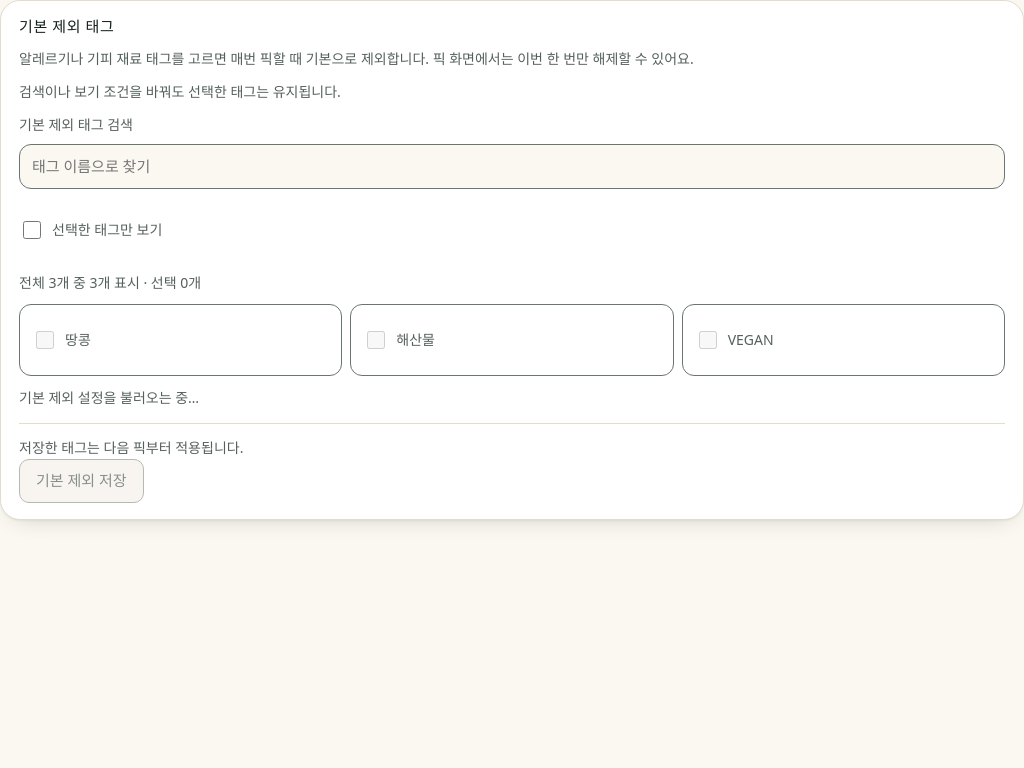
Test: 설정을 읽기 전에는 빈 선택을 저장하지 않는다
The image size is (1024, 768).
Expected: the element named "기본 제외할 태그" is shown, 19,304 -> 1005,376
Expected: the checkbox labelled "땅콩" is disabled, 36,318 -> 54,362
Click the button "기본 제외 저장" at (81, 481), box 19,459 -> 144,503
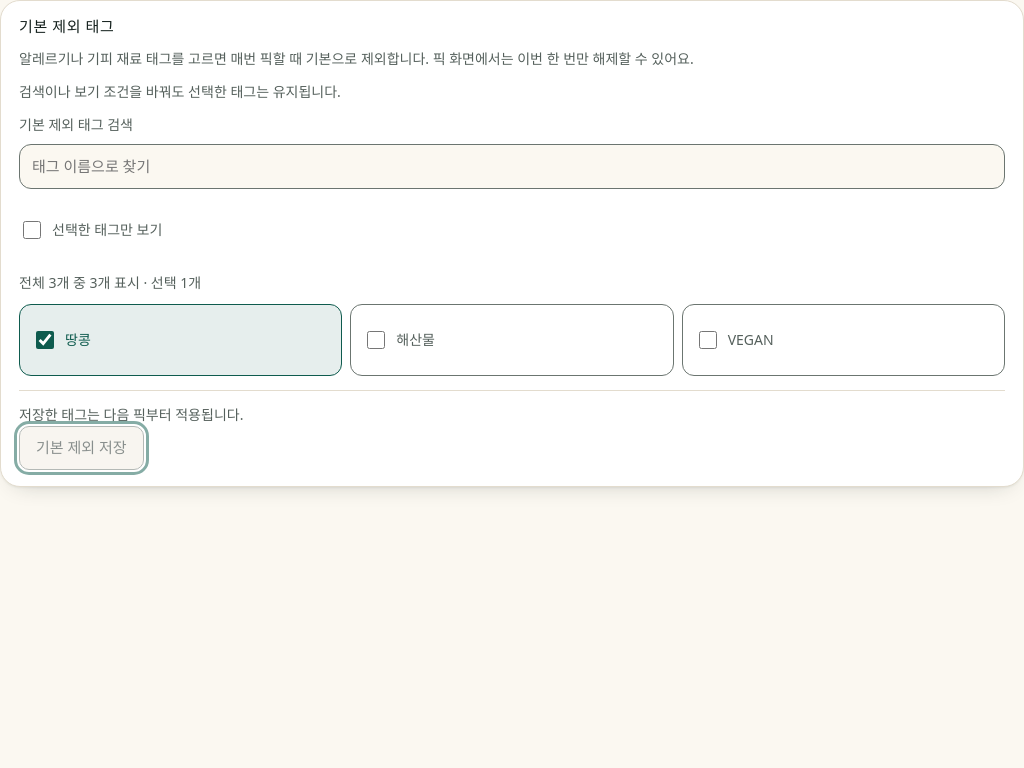
Expected: the checkbox labelled "땅콩" is checked, 36,318 -> 54,362
